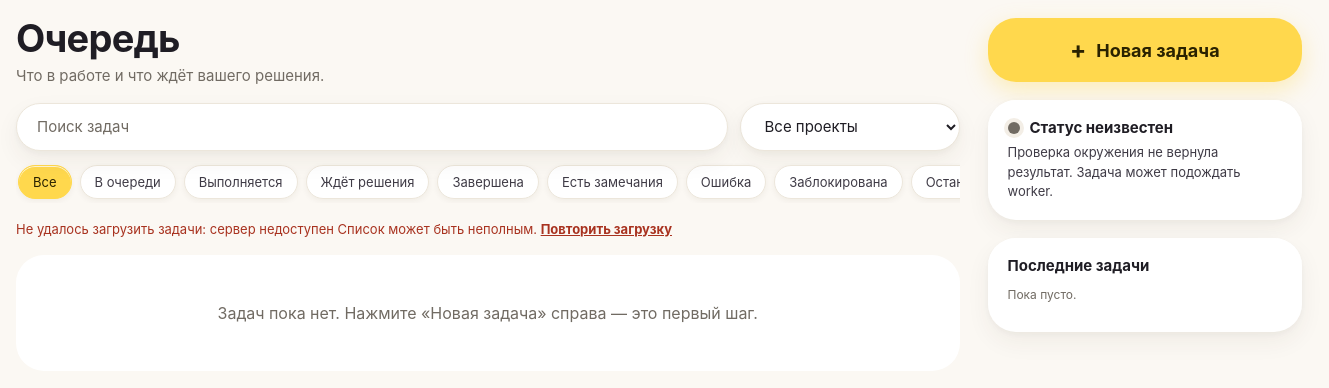
Scenario: Queue page › показывает ошибку загрузки и позволяет повторить
Expected: the message shows "сервер недоступен", [210, 221, 334, 237]
Click the button "Повторить загрузку" at (606, 229), box [541, 221, 672, 237]
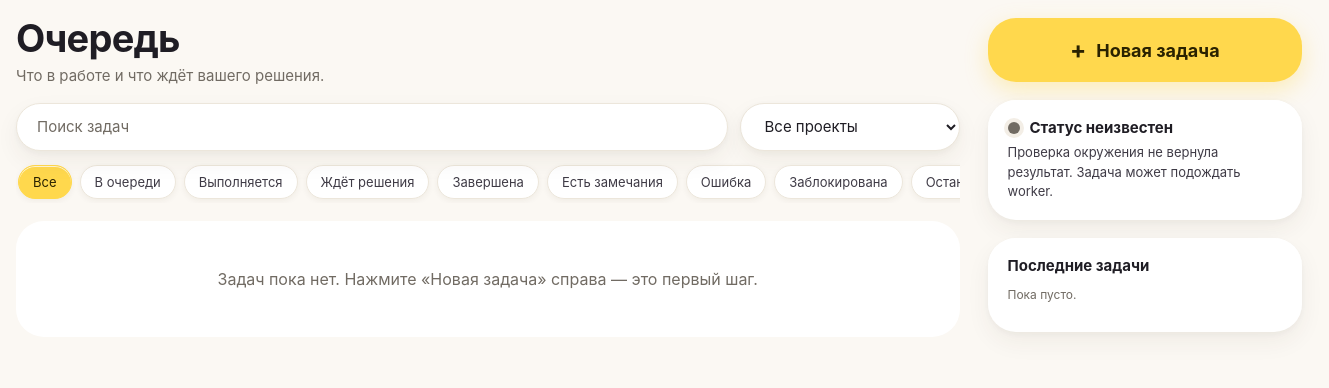
Result: the message is gone
